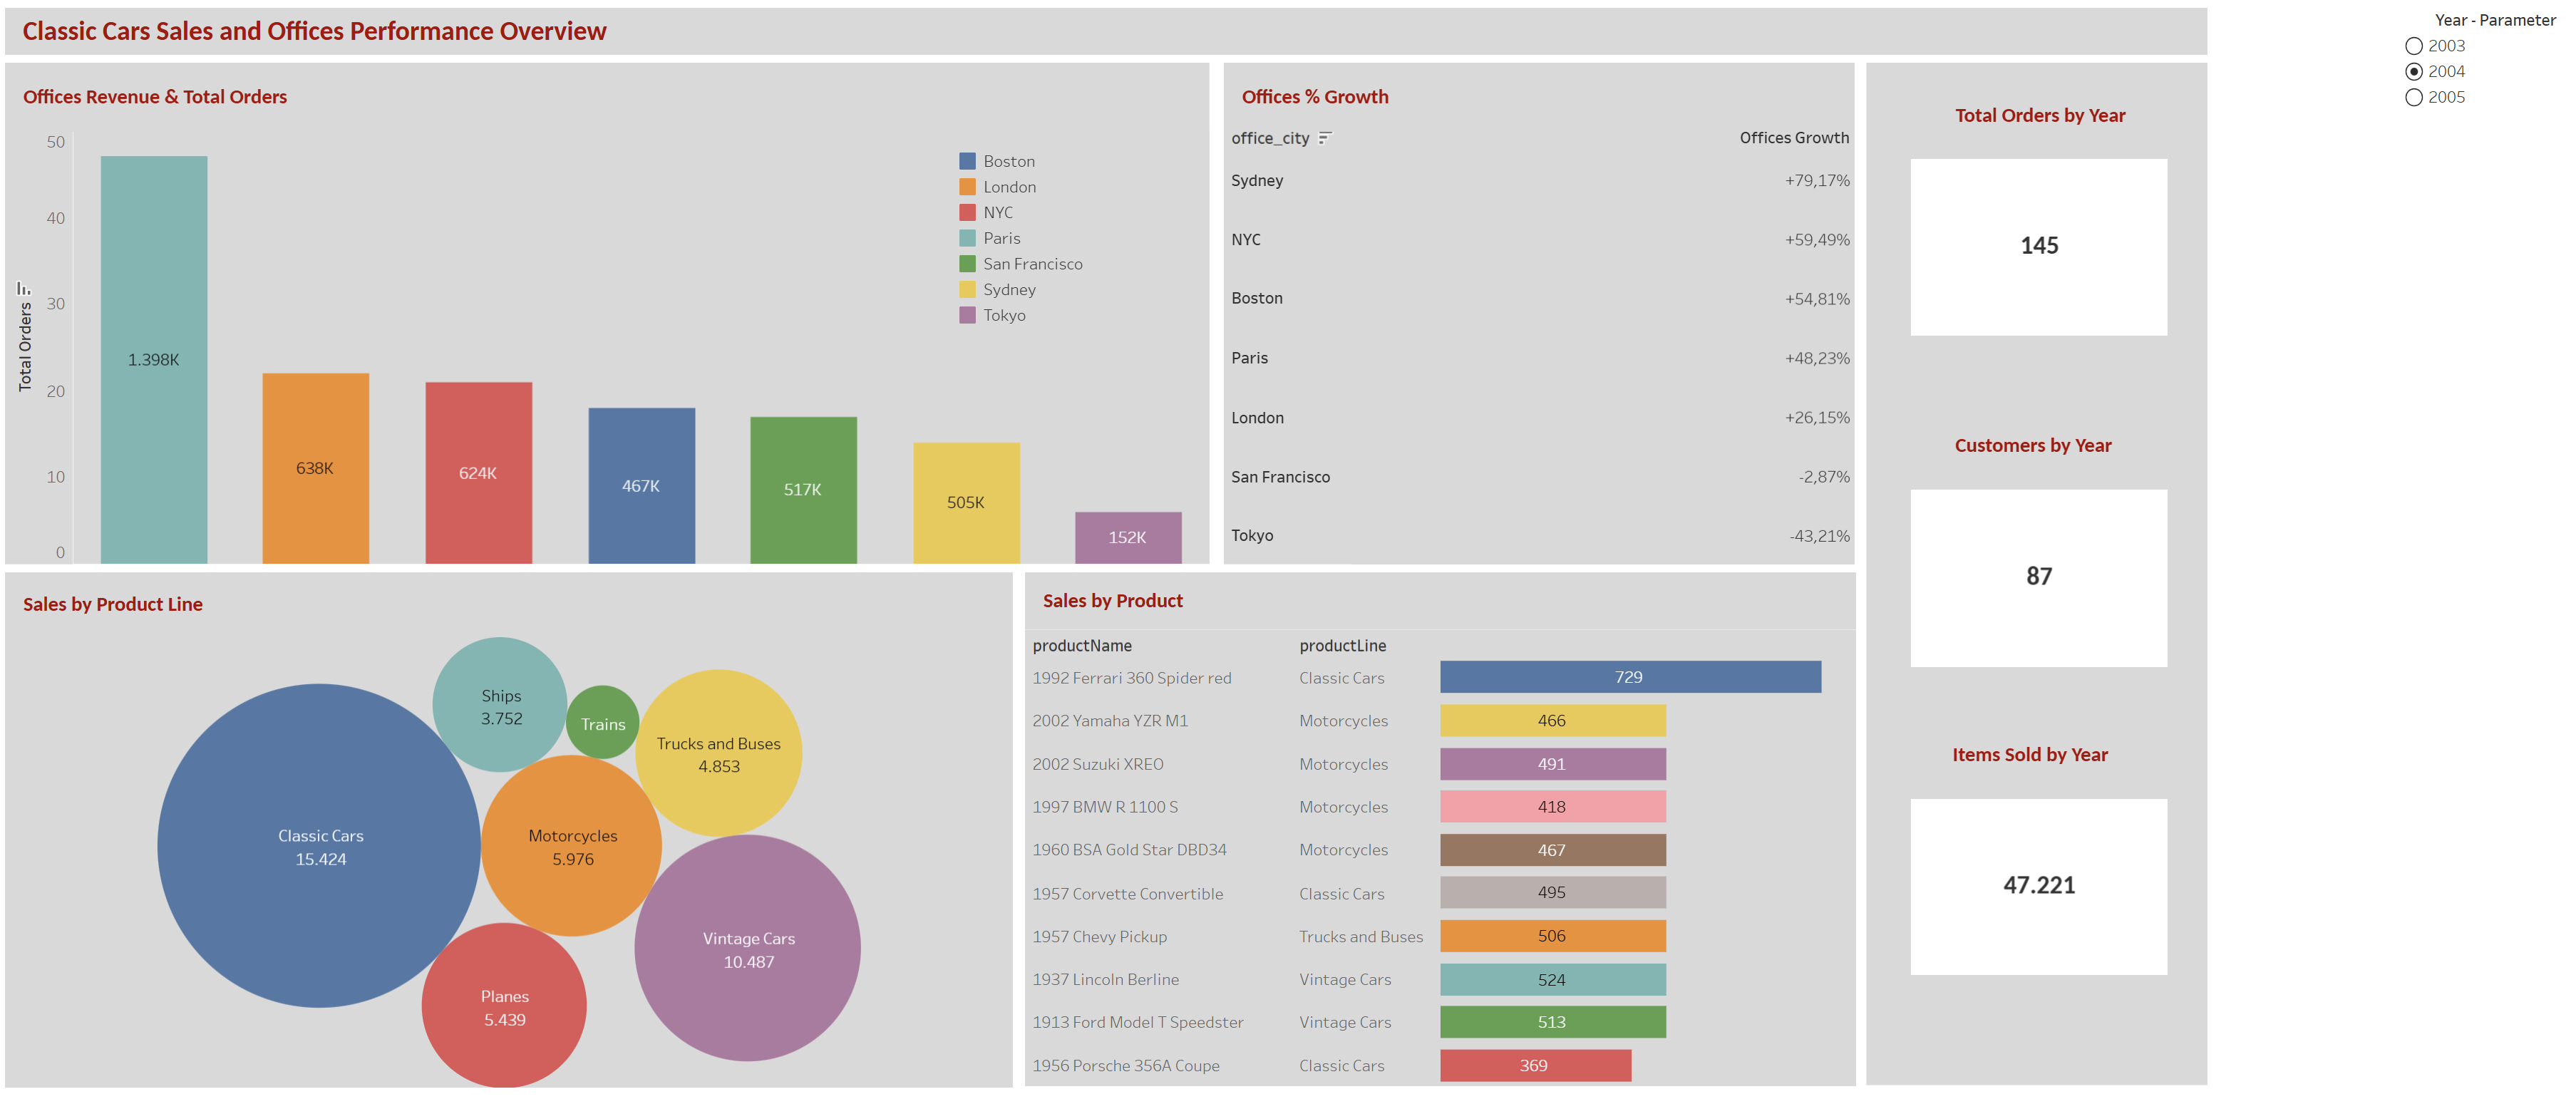

This screenshot's page, from the dashboard's own definition file:
{"tool":"powerbi","page":{"name":"Sales & Offices Performance Overview","canvas":[1280,720],"ordinal":1},"visuals":[{"type":"shape","box":[1078.3,68.6,190.5,651.3],"z":0},{"type":"shape","title":"Classic Cars Sales and Offices Performance Overview","box":[7.2,13.3,1071.1,55.3],"z":1000},{"type":"clusteredColumnChart","title":"Offices Revenue & Total Orders","fields":{"Y":["classicmodels orderdetails.Revenue"],"Category":["classicmodels offices.city"]},"box":[544.3,68.8,533.5,317.3],"z":2000},{"type":"slicer","fields":{"Values":["classicmodels orders.orderDate.Variation.Date Hierarchy.Year"]},"box":[1078.3,13.3,190.5,55.3],"z":3000},{"type":"card","title":"Total Orders","fields":{"Values":["classicmodels orderdetails.total orders count"]},"box":[1089.6,316.2,163.5,126],"z":4000},{"type":"card","title":"Customers by Year","fields":{"Values":["classicmodels orderdetails.Total customers count"]},"box":[1091.8,444.2,163.5,126],"z":5000},{"type":"card","title":"Items Sold by Year","fields":{"Values":["classicmodels orderdetails.Quantity Ordered Shipped Only"]},"box":[1091.8,572.2,163.5,126],"z":6000},{"type":"treemap","title":"Sales by Product Line","fields":{"Group":["classicmodels productlines.productLine"],"Values":["classicmodels orderdetails.Quantity Ordered Shipped Only"]},"box":[543.2,387.2,535.7,332.4],"z":7000},{"type":"clusteredBarChart","title":"Sales By Product","fields":{"Category":["classicmodels products.productName"],"Y":["classicmodels orderdetails.Quantity Ordered Shipped Only"]},"box":[8.6,387.2,530.3,332.4],"z":8000},{"type":"map","title":"Profit by Office","fields":{"Category":["classicmodels offices.city"],"Size":["classicmodels orderdetails.Profit"]},"box":[7.5,68.8,531.4,317.3],"z":9000},{"type":"card","title":"Profit by Year","fields":{"Values":["classicmodels orderdetails.Profit Display"]},"box":[1089.6,188.2,163.5,126],"z":9002},{"type":"card","title":"Last Year","fields":{"Values":["classicmodels orderdetails.Total Orders Last Year Display"]},"box":[1091,396,161.3,48],"z":9003},{"type":"card","title":"Last Year","fields":{"Values":["classicmodels orderdetails.Total Customers Last Year Display"]},"box":[1092.8,523.8,161.3,48.4],"z":9004},{"type":"card","title":"Last Year","fields":{"Values":["classicmodels orderdetails.Quantity Ordered Last Year Display"]},"box":[1091.8,652.9,161.3,47.3],"z":9005},{"type":"card","title":"Last Year","fields":{"Values":["classicmodels orderdetails.Profit Last Year Display 2nd Dash"]},"box":[1090.7,267.8,161.3,48.4],"z":9006}]}

Visuals, with their boxes on the page's 1280x720 design canvas (x1, y1, x2, y2). These are canvas units, not pixel positions in the 2576x1099 screenshot, which may show the page scaled, cropped or inside an application window:
shape: 1078/69/1269/720
"Classic Cars Sales and Offices Performance Overview" shape: 7/13/1078/69
"Offices Revenue & Total Orders" clusteredColumnChart: 544/69/1078/386
slicer - classicmodels orders.orderDate.Variation.Date Hierarchy.Year: 1078/13/1269/69
"Total Orders" card: 1090/316/1253/442
"Customers by Year" card: 1092/444/1255/570
"Items Sold by Year" card: 1092/572/1255/698
"Sales by Product Line" treemap: 543/387/1079/720
"Sales By Product" clusteredBarChart: 9/387/539/720
"Profit by Office" map: 8/69/539/386
"Profit by Year" card: 1090/188/1253/314
"Last Year" card: 1091/396/1252/444
"Last Year" card: 1093/524/1254/572
"Last Year" card: 1092/653/1253/700
"Last Year" card: 1091/268/1252/316
